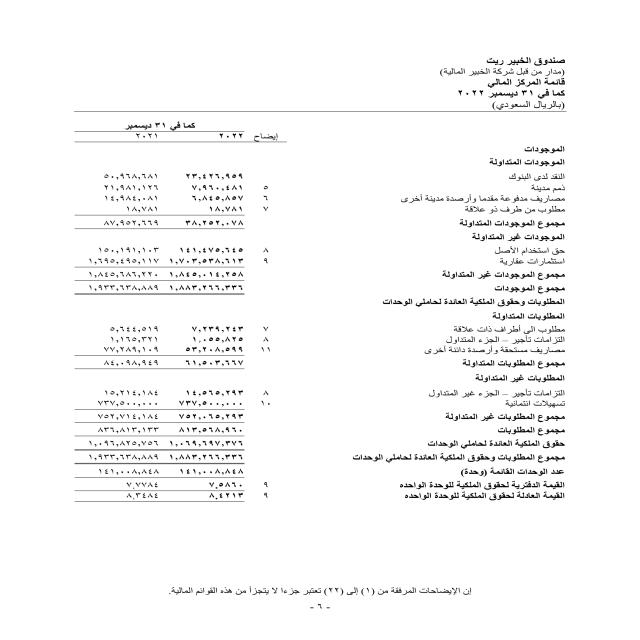financial_sheets: (487, 74, 569, 90)
table: (26, 112, 292, 514)
